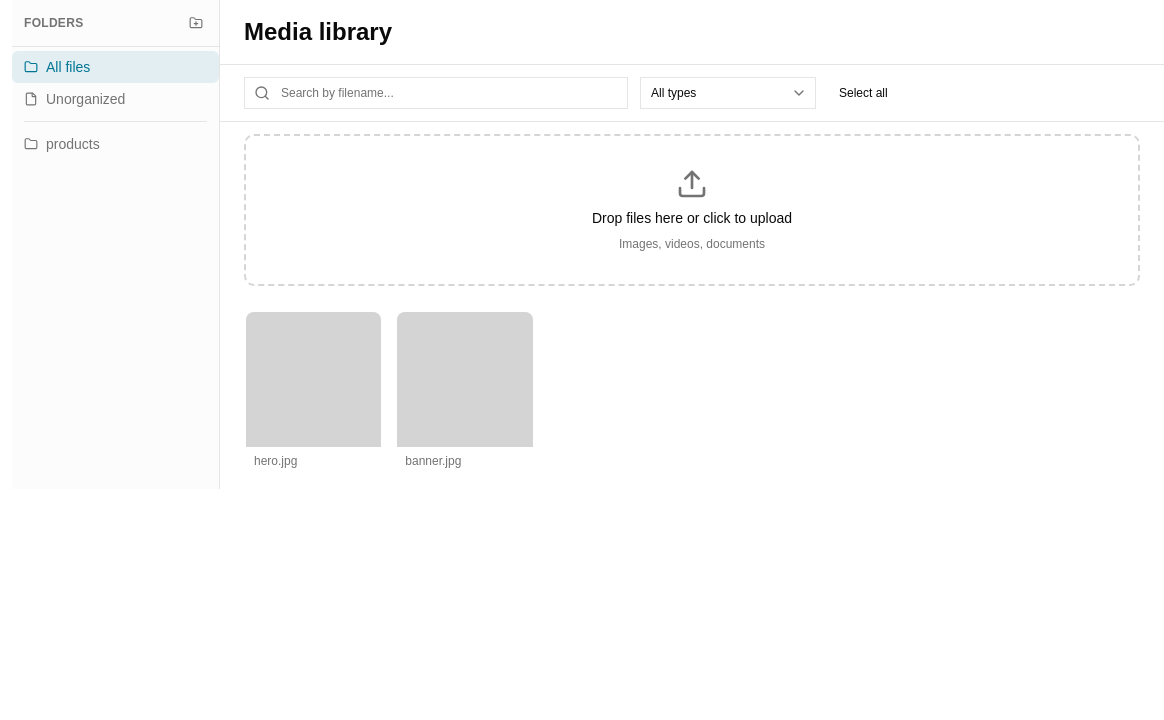
it: MediaPage — folder sidebar › new folder input appears when + button clicked
Click the button titled "New folder": x=196, y=23 [185,12,207,34]
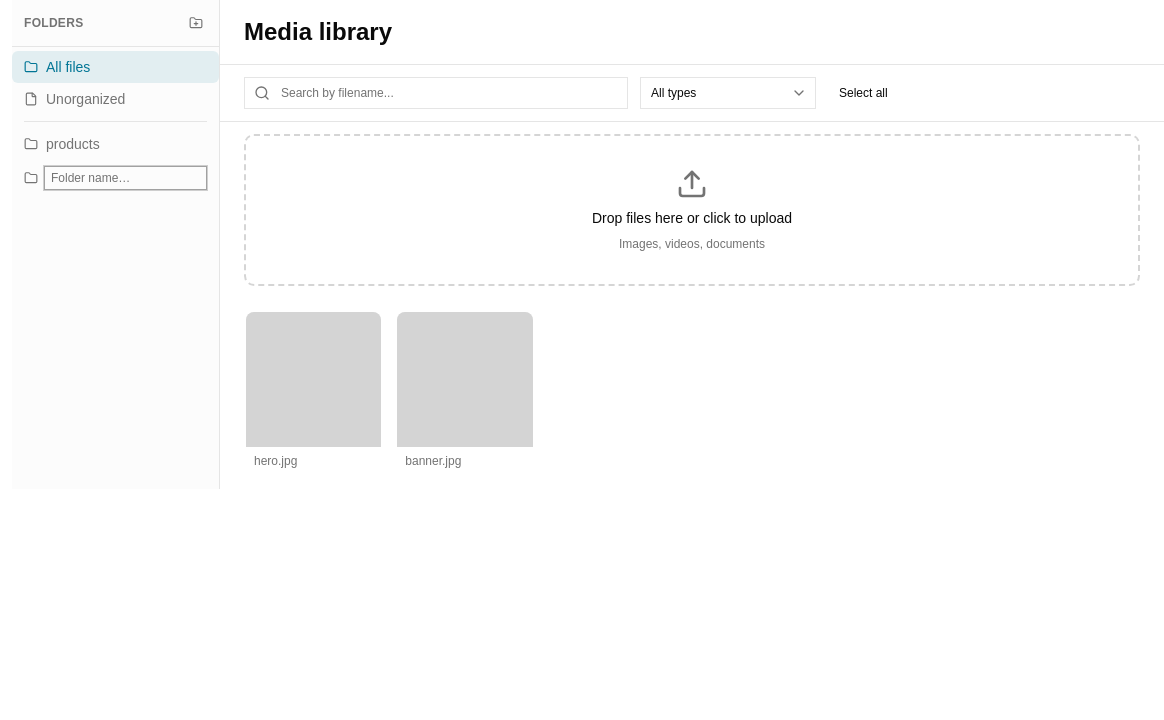
expect the field with placeholder "Folder name…" is shown: met, box [44,166,207,190]
